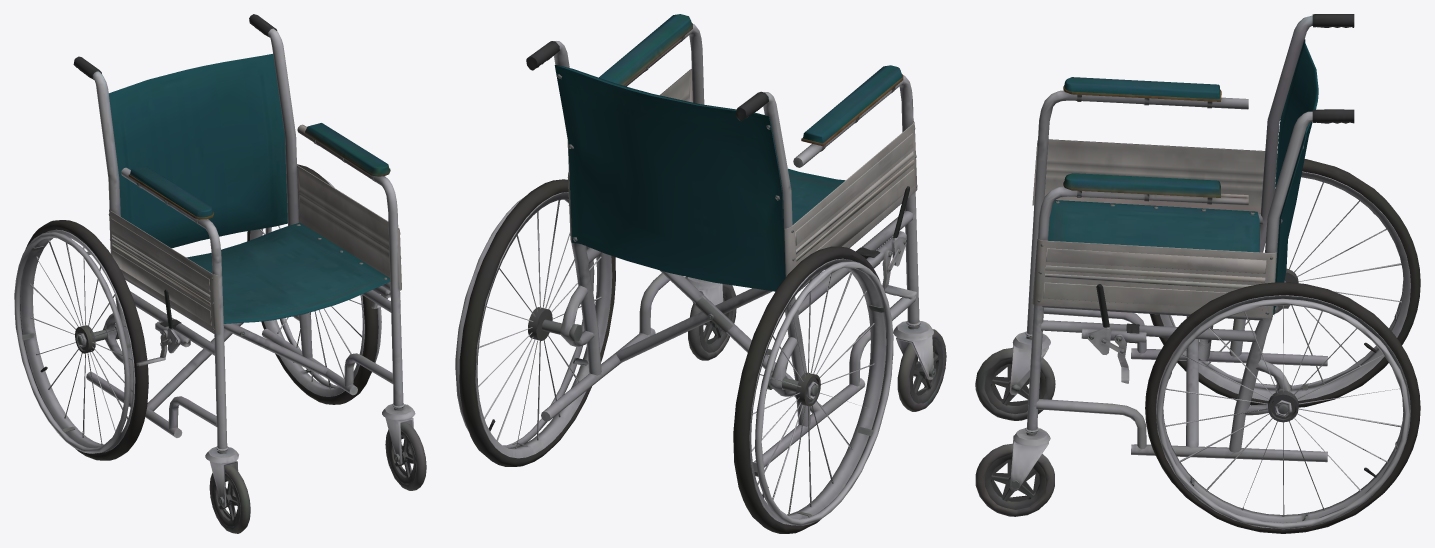
Rendered from wheelchair_01.glb.
3 renders of one model, left to right at view 1: azimuth 30°, elevation 25°; view 2: azimuth 150°, elevation 25°; view 3: azimuth 270°, elevation 25°, orthographic. The views are drawn at different scales.
Parts seen in each view (by area): view 1: wheelchair_01; view 2: wheelchair_01; view 3: wheelchair_01.
Part boxes in pixels (bbox=[...]): wheelchair_01: bbox=[14, 14, 426, 533]; wheelchair_01: bbox=[455, 14, 946, 533]; wheelchair_01: bbox=[975, 14, 1420, 533].
Bounding box in the file's own units: 0.824 × 1.1 × 1.09.
Materials: 1 (1 with a texture image).
